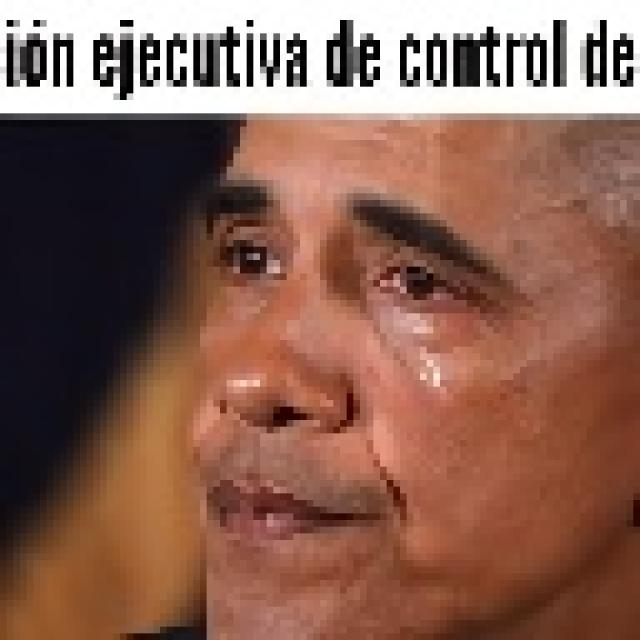sad: (152, 130, 640, 640)
